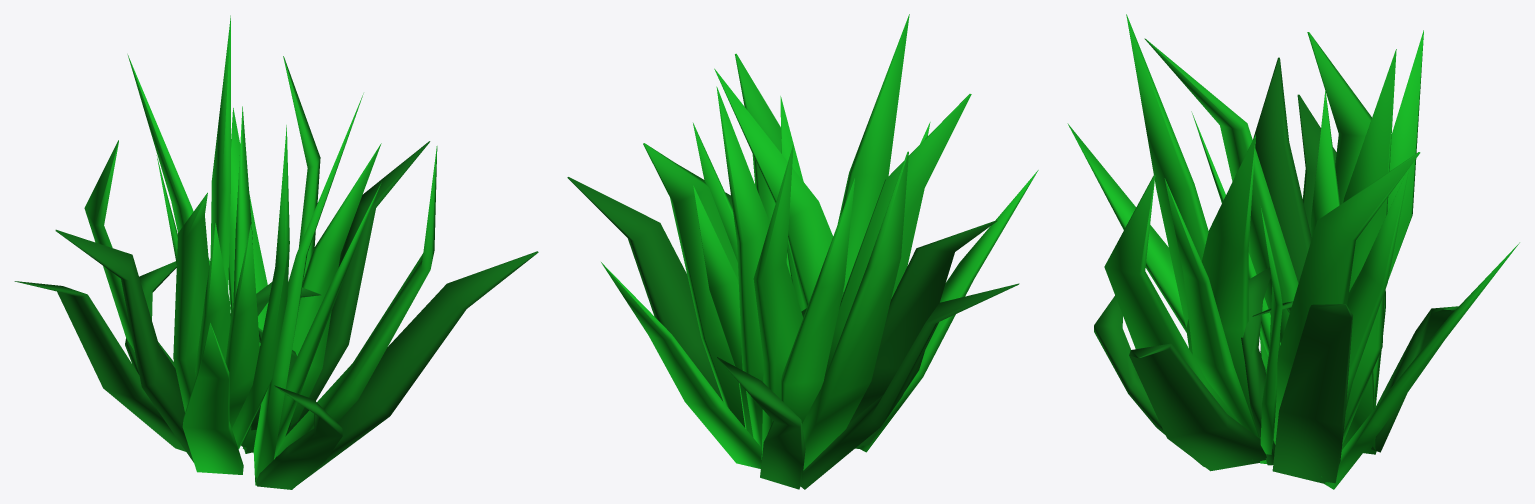
The model's file is cesped_grande.glb.
The picture shows the model from 3 angles, left to right: view 1: azimuth 30°, elevation 25°; view 2: azimuth 150°, elevation 25°; view 3: azimuth 270°, elevation 25°; orthographic projection. The views are drawn at different scales.
Visible parts, largest first — view 1: Cube.001; view 2: Cube.001; view 3: Cube.001.
Part boxes in pixels (x1,y1,x2,y2): Cube.001: (14, 15, 538, 489); Cube.001: (567, 14, 1038, 489); Cube.001: (1067, 14, 1519, 489).
Size of the model in its own units: 0.6072 by 0.5242 by 0.4933.
